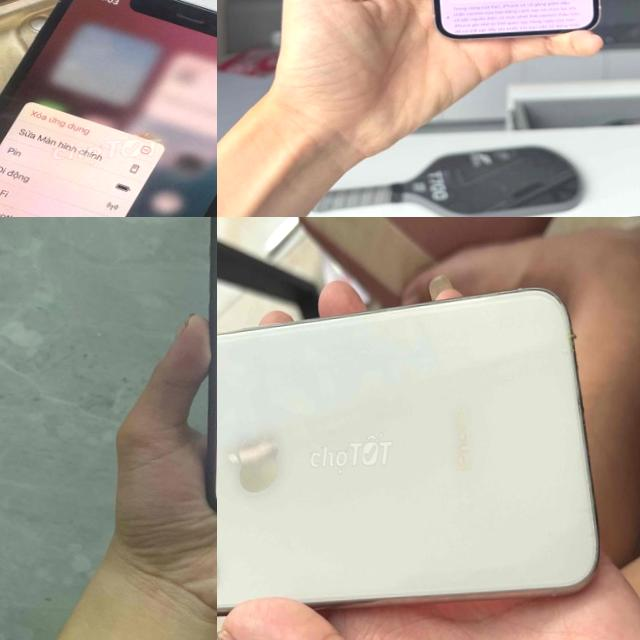scratch: (217, 323, 282, 352)
